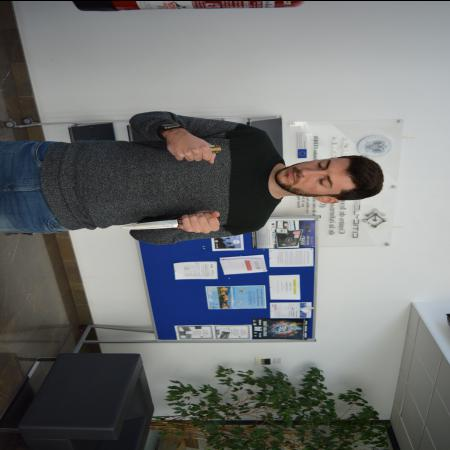long weapon: (119, 214, 225, 233)
